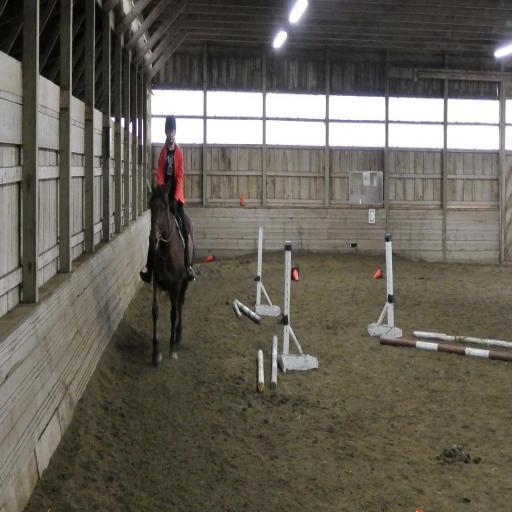horse: (138, 170, 194, 357)
